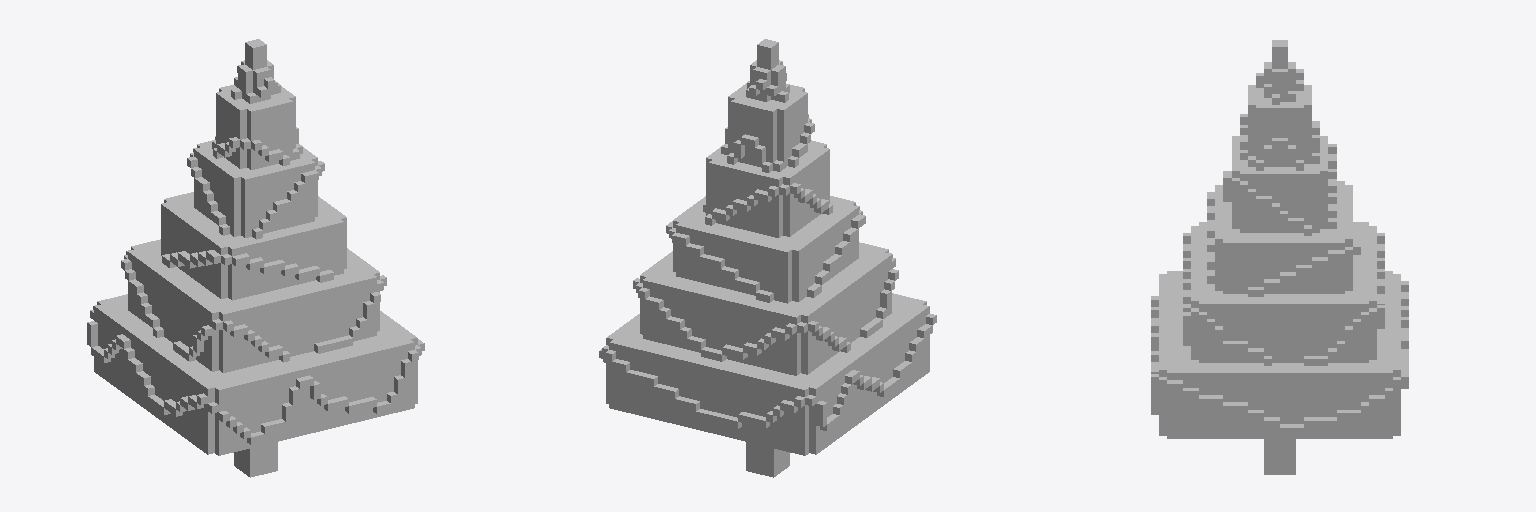
The model's file is Christmas tree_1.obj.
3 renders of one model, left to right at view 1: azimuth 30°, elevation 25°; view 2: azimuth 150°, elevation 25°; view 3: azimuth 270°, elevation 25°, orthographic.
Parts seen in each view (by area): view 1: object 1; view 2: object 1; view 3: object 1.
Boxes of the visible parts, x1,y1,x2,y2 form: object 1: [87, 39, 424, 477]; object 1: [599, 39, 936, 477]; object 1: [1151, 40, 1408, 474].
Size of the model in its own units: 3.2 by 5.8 by 3.2.